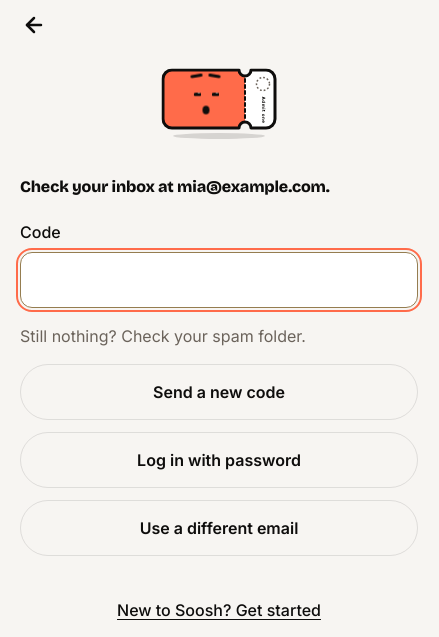
it: log in code screen, details › goes back to the email screen from 'Use a different email' with the address in and selected
Click the button "Use a different email" at (219, 528), box [20,500,418,556]
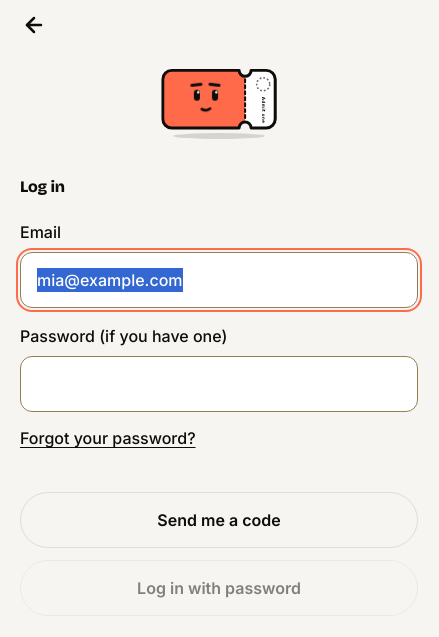
Expected: the password field labelled "Password (if you have one)" is shown, [20,356,418,412]
Expected: the field labelled "Email" holds "mia@example.com", [20,252,418,308]
